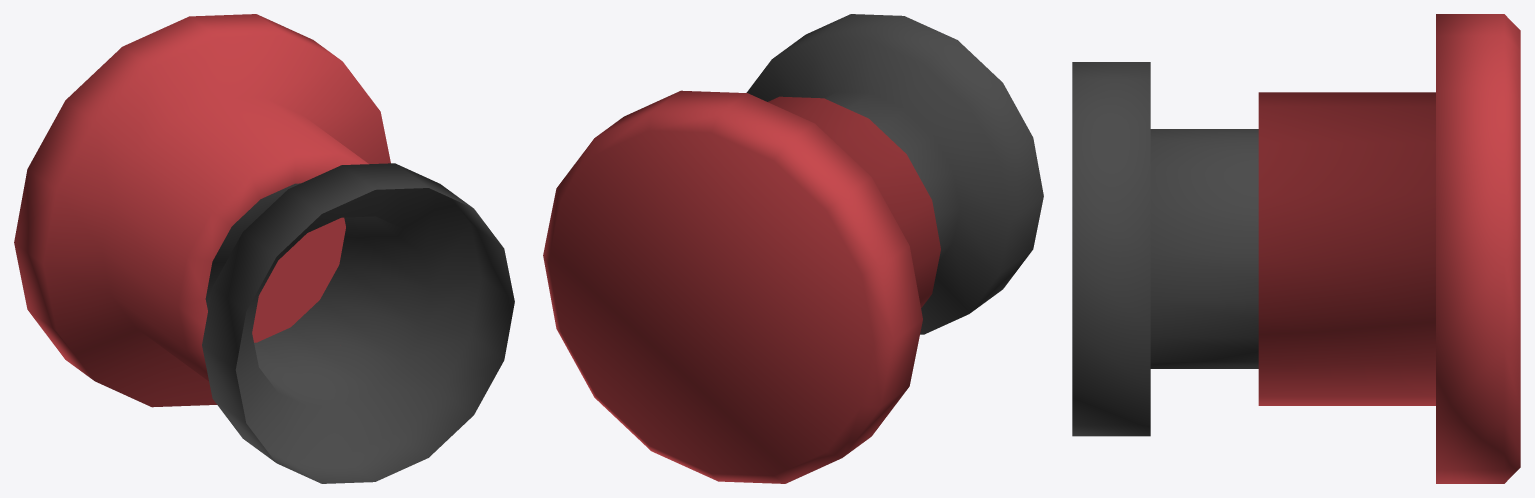
File: button_big.glb
3 renders of one model, left to right at view 1: azimuth 30°, elevation 25°; view 2: azimuth 150°, elevation 25°; view 3: azimuth 270°, elevation 25°, orthographic. The views are drawn at different scales.
Parts seen in each view (by area): view 1: button_big, button_big.001; view 2: button_big, button_big.001; view 3: button_big, button_big.001.
Part boxes in pixels (x1,y1,x2,y2): button_big: (14, 14, 390, 407); button_big.001: (202, 163, 514, 483); button_big: (543, 90, 940, 483); button_big.001: (746, 14, 1043, 334); button_big: (1258, 14, 1520, 483); button_big.001: (1072, 62, 1258, 436).
Bounding box in the file's own units: 0.072 × 0.072 × 0.0687.
